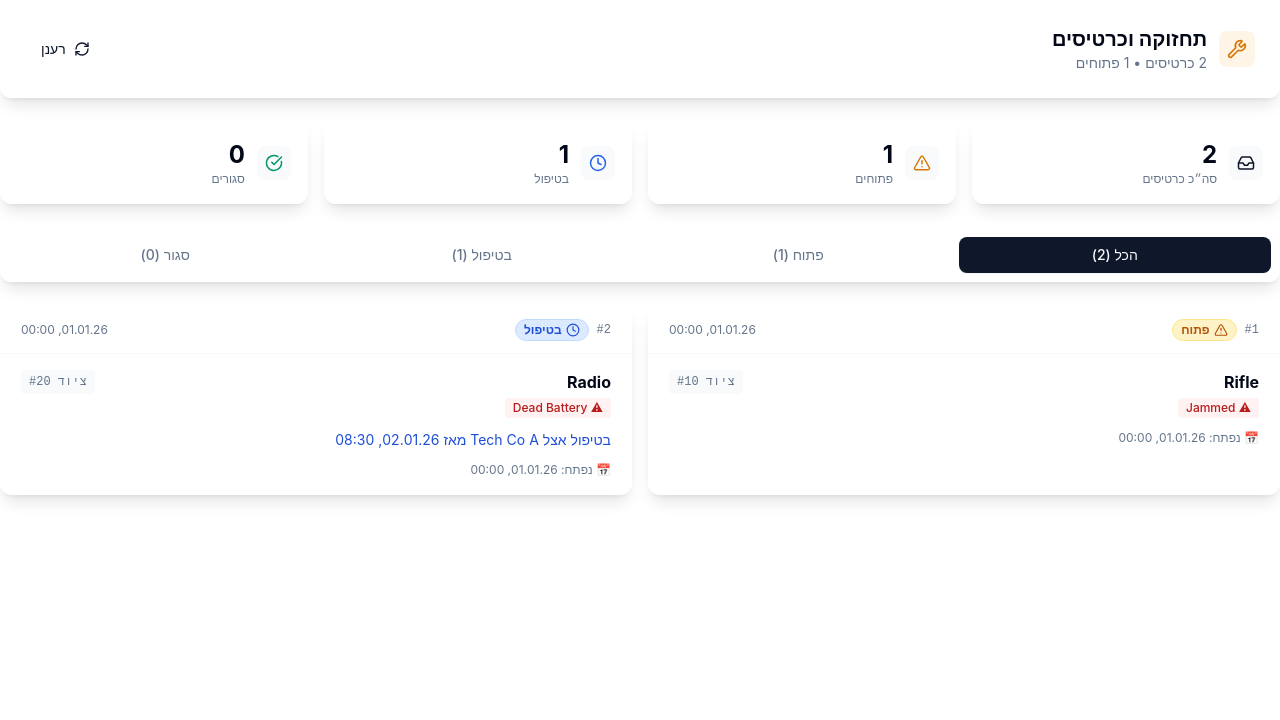
Test: MaintenancePage takes and releases a ticket (DATA-M22) › lists an In Progress ticket under the בטיפול tab
Expected: the heading "Radio" is shown, [567, 372, 611, 392]
Click the button "בטיפול (1)".
click(482, 255)  # box [326, 237, 638, 273]
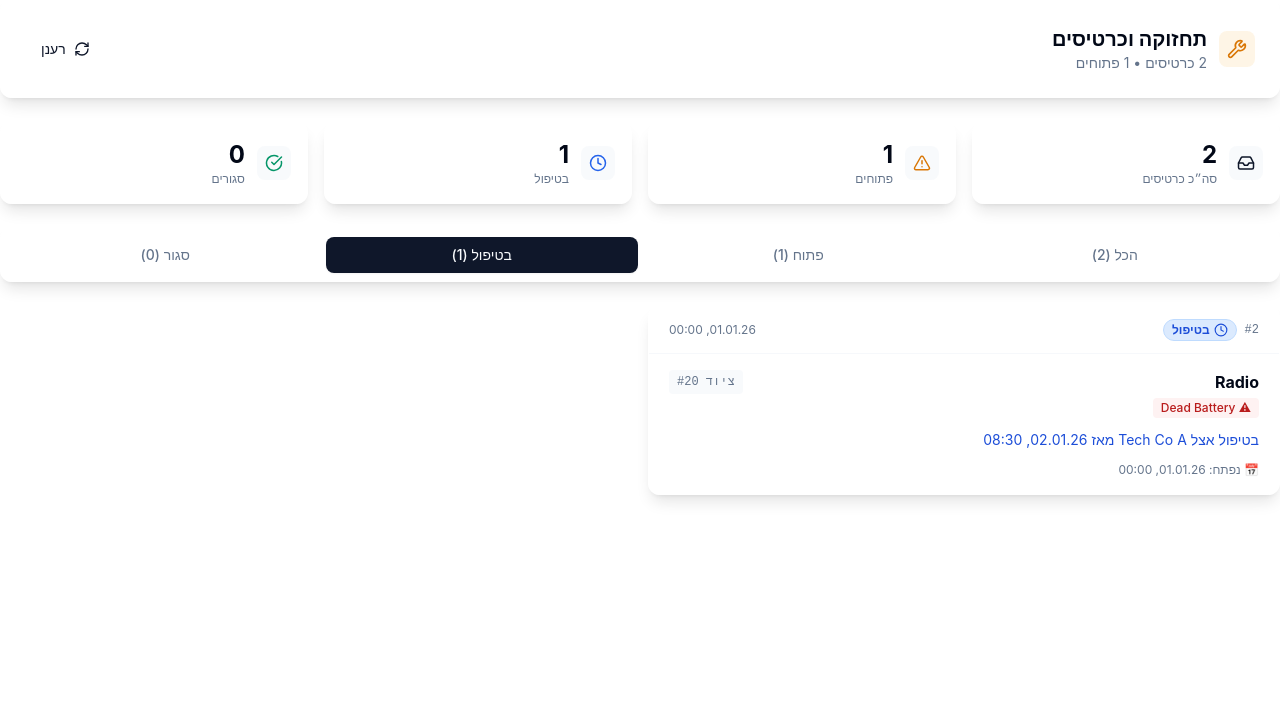
Expected: the heading "Radio" is shown, [1215, 372, 1259, 392]
Result: the heading "Rifle" is gone
